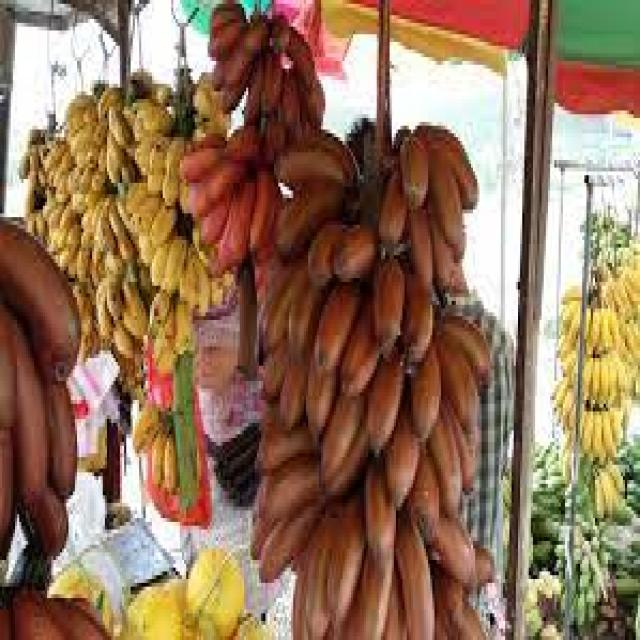banana: (283, 120, 492, 632), (146, 92, 225, 385), (57, 82, 140, 338), (204, 5, 317, 144), (178, 125, 271, 268), (556, 282, 628, 462)
